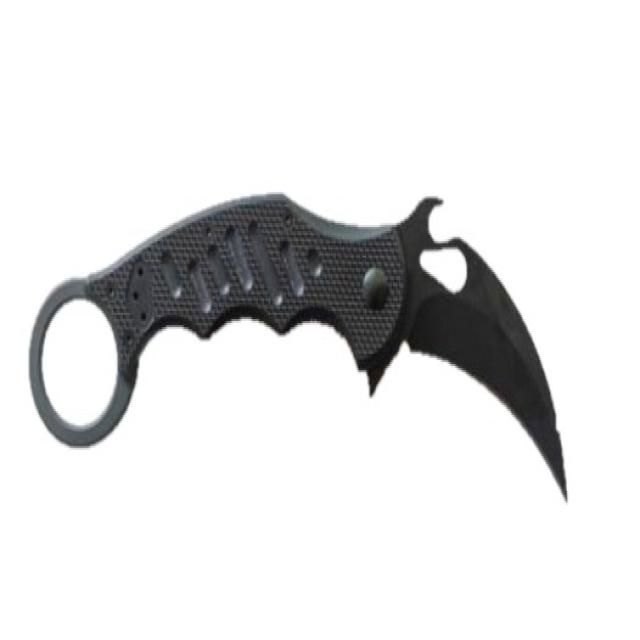knife: (23, 154, 577, 520)
